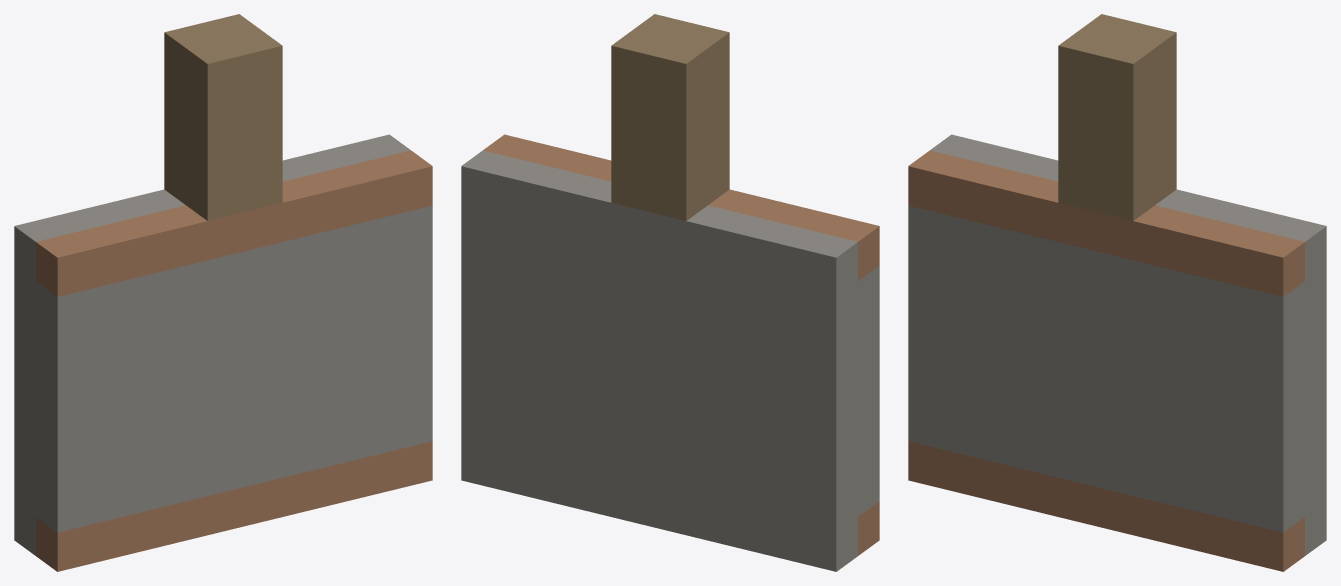
Rendered from sarten_oxidado_01.glb.
3 renders of one model, left to right at view 1: azimuth 30°, elevation 25°; view 2: azimuth 150°, elevation 25°; view 3: azimuth 330°, elevation 25°, orthographic.
Parts seen in each view (by area): view 1: sarten_oxidado; view 2: sarten_oxidado; view 3: sarten_oxidado.
Boxes of the visible parts, box(x1,y1,x2,y2) form: sarten_oxidado: box(14, 14, 432, 571); sarten_oxidado: box(461, 14, 879, 571); sarten_oxidado: box(908, 14, 1326, 571).
Bounding box in the file's own units: 0.7692 × 0.9231 × 0.1538.
